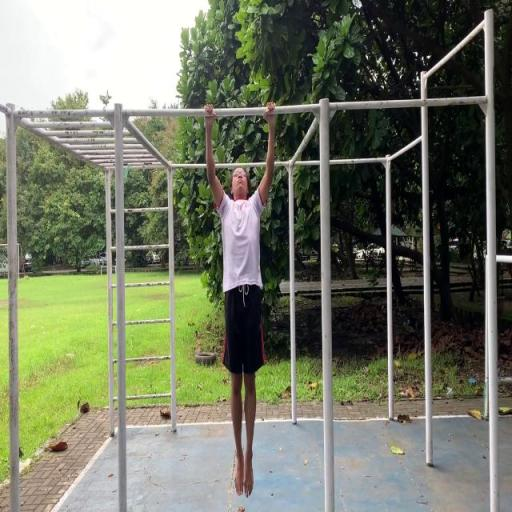Normal_BrenchPress: (204, 100, 277, 498)
